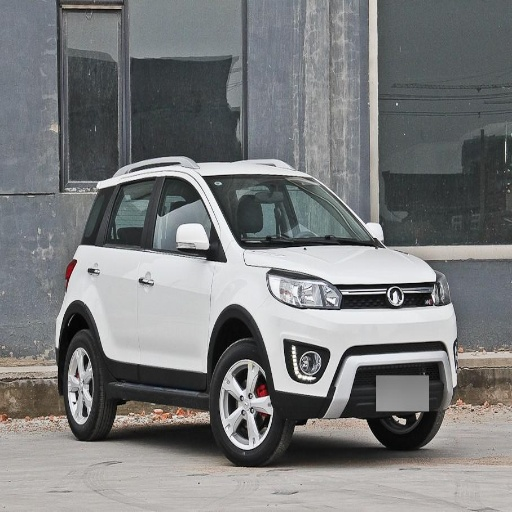front_bumper: (263, 282, 458, 430)
front_right_door: (139, 173, 220, 388)
front_right_light: (267, 271, 343, 308)
hood: (243, 246, 436, 285)
